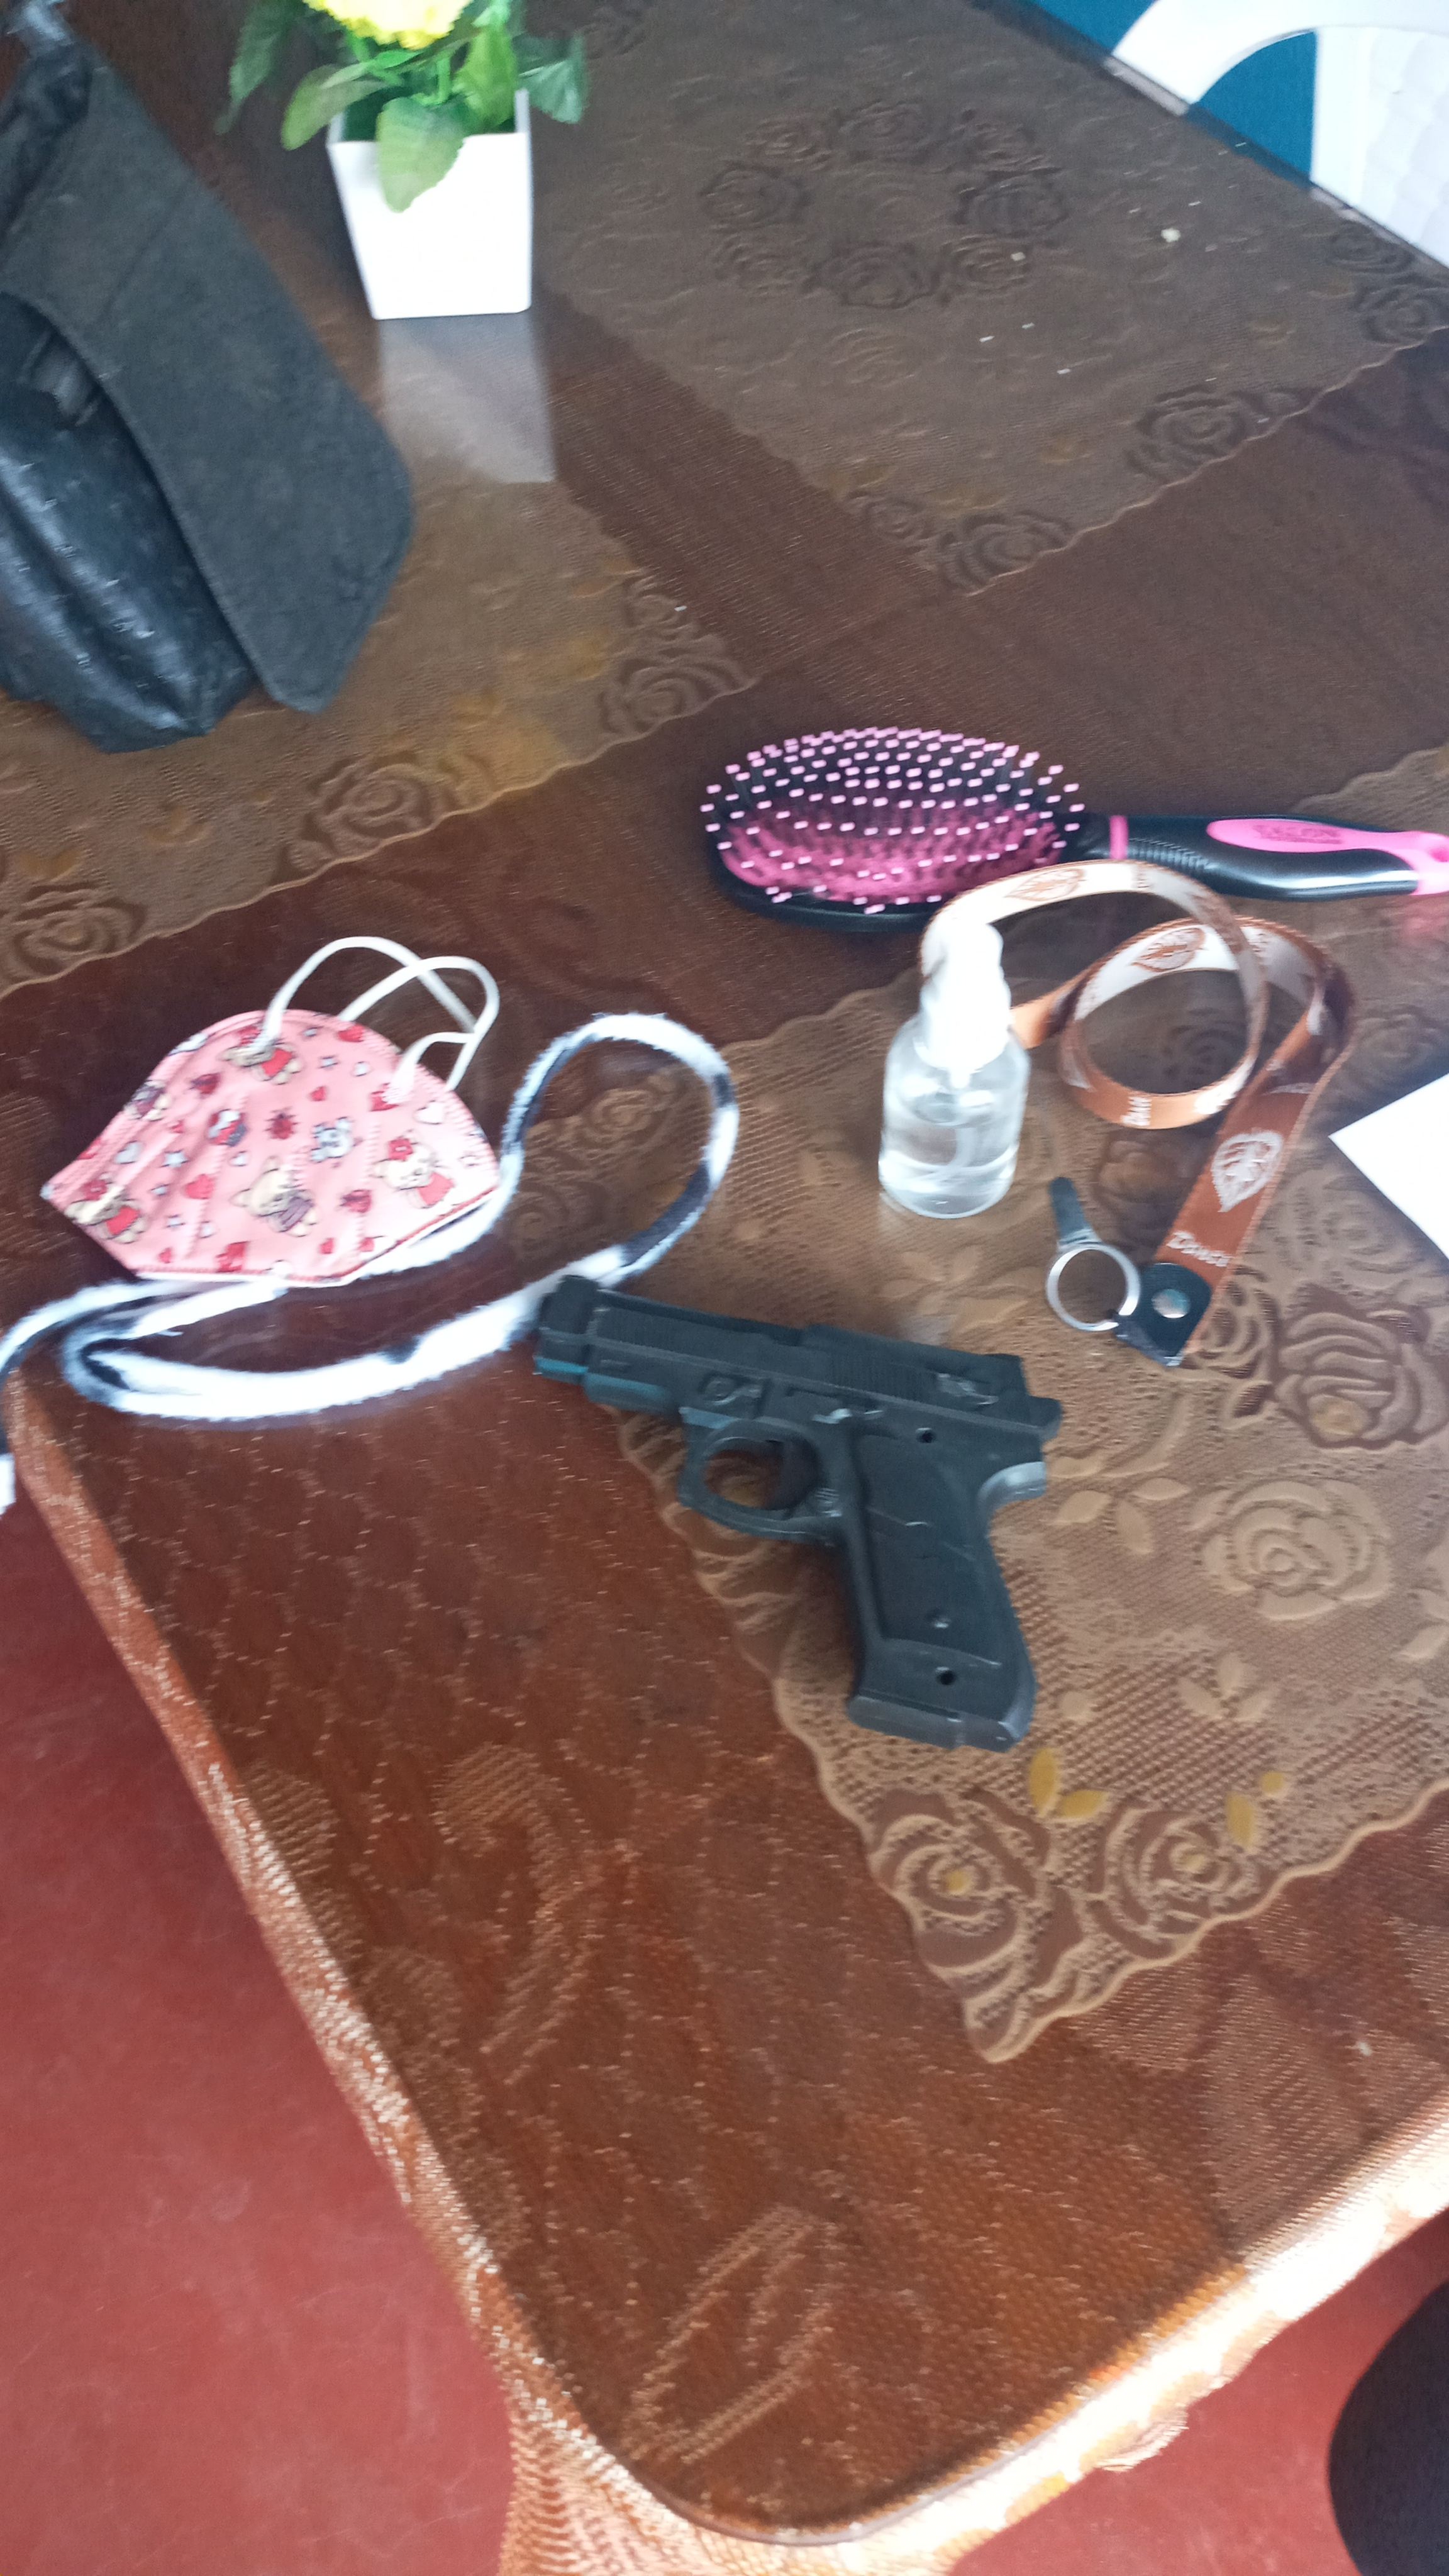Arma: (522, 1295, 1056, 1587)
